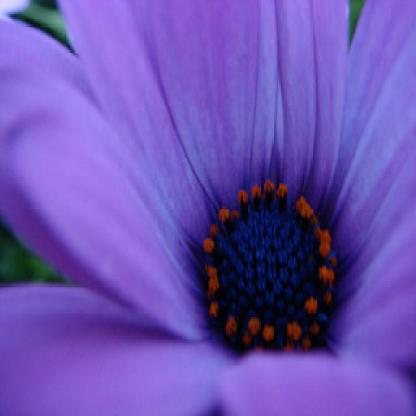ASTER: (9, 10, 408, 405)
